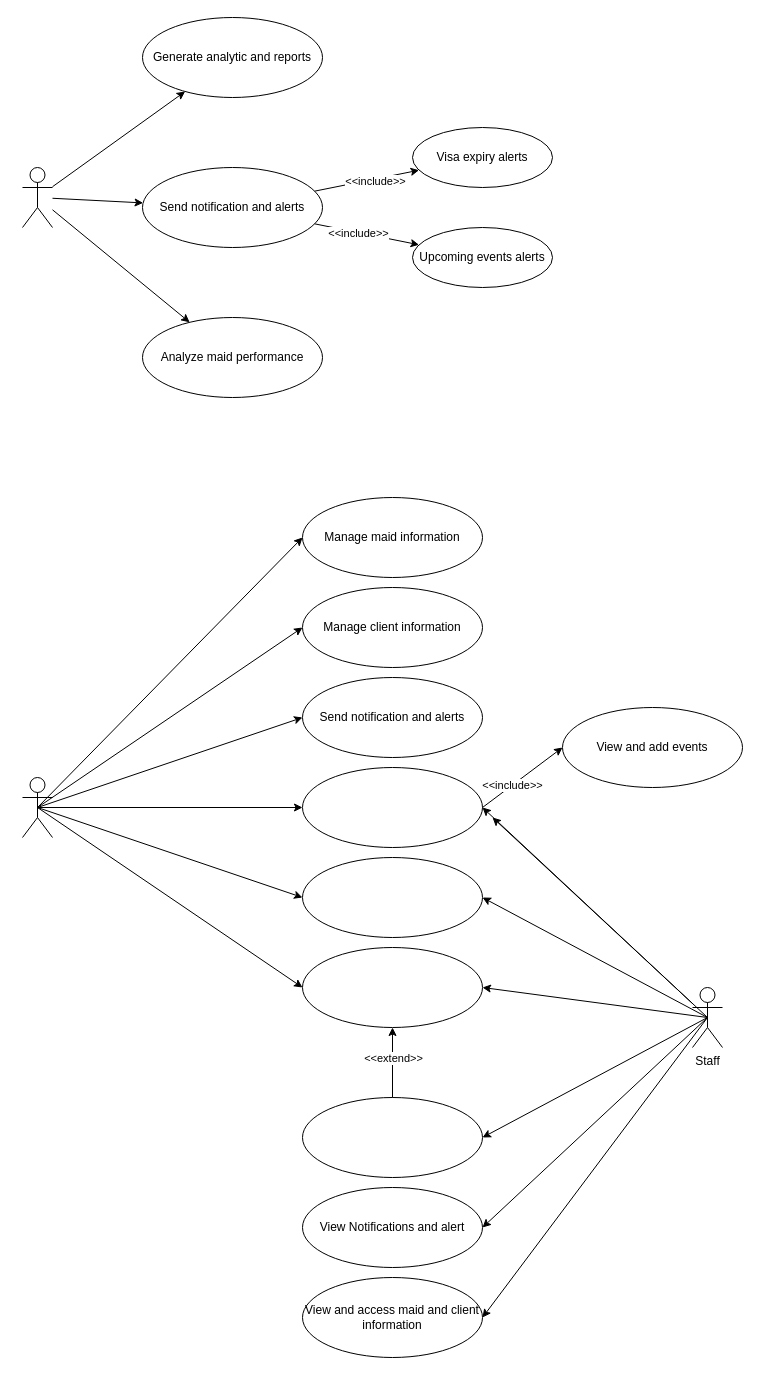
The diagram is 760 pixels wide and 1375 high, and some of its shapes have lost their labels. The shapes that lost their labels are listed below. From the top down, each one's centre as x and y in pixels, then its label:
(x=37, y=197): System
(x=37, y=807): Admin
(x=392, y=807): View calendar
(x=392, y=897): Centralized dashboards
(x=392, y=987): Login account
(x=392, y=1137): Register account
